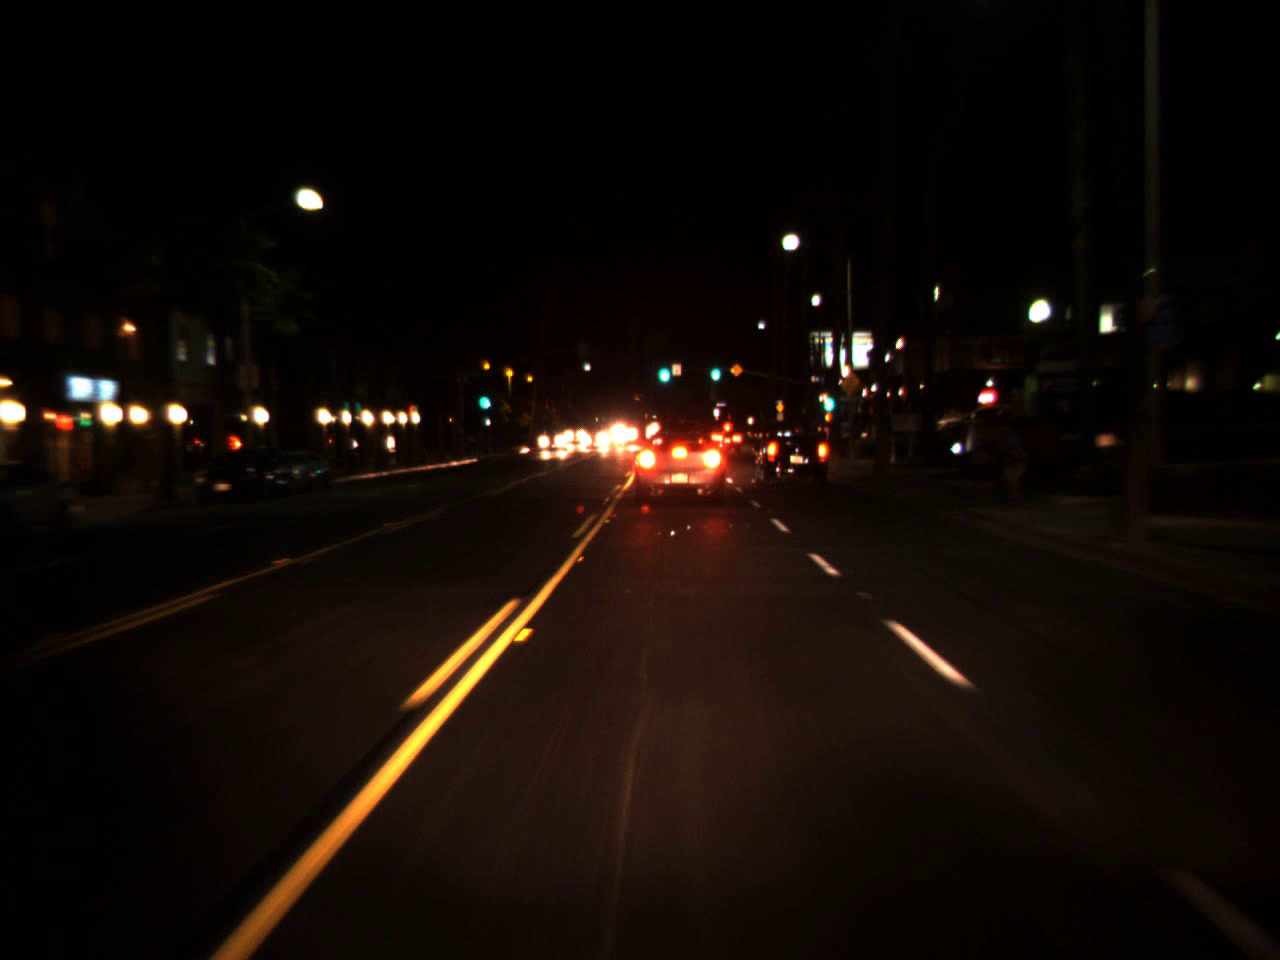go: (655, 349, 673, 388), (818, 384, 836, 414), (475, 380, 491, 413), (708, 355, 722, 385)
